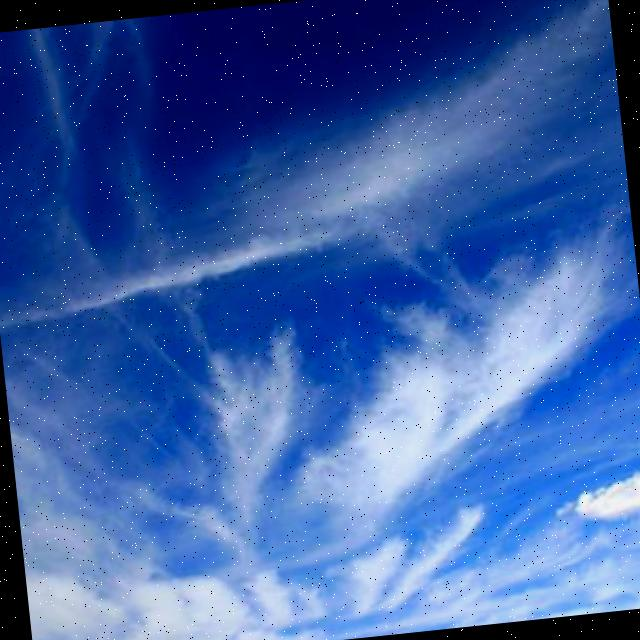Ci: (1, 1, 640, 632)
